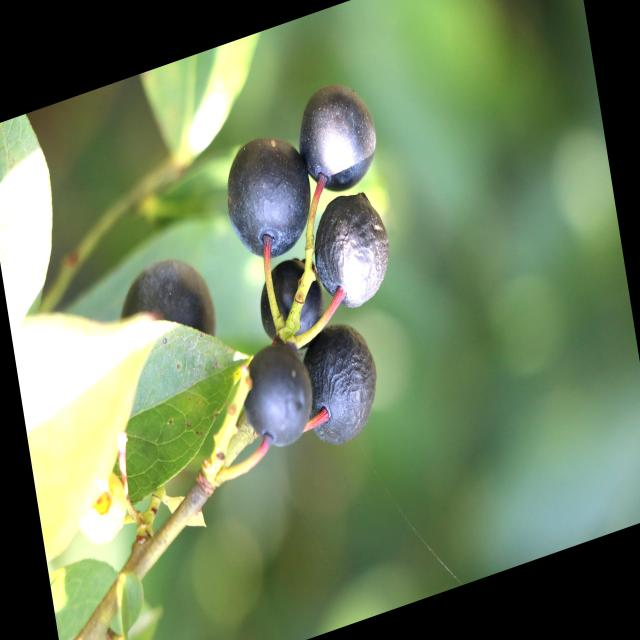blueberry: (222, 125, 317, 270), (119, 246, 221, 366), (310, 182, 398, 320), (300, 318, 386, 451), (293, 75, 382, 203), (236, 334, 319, 457), (259, 253, 326, 353)
blueberry-unripe: (68, 467, 136, 556)
